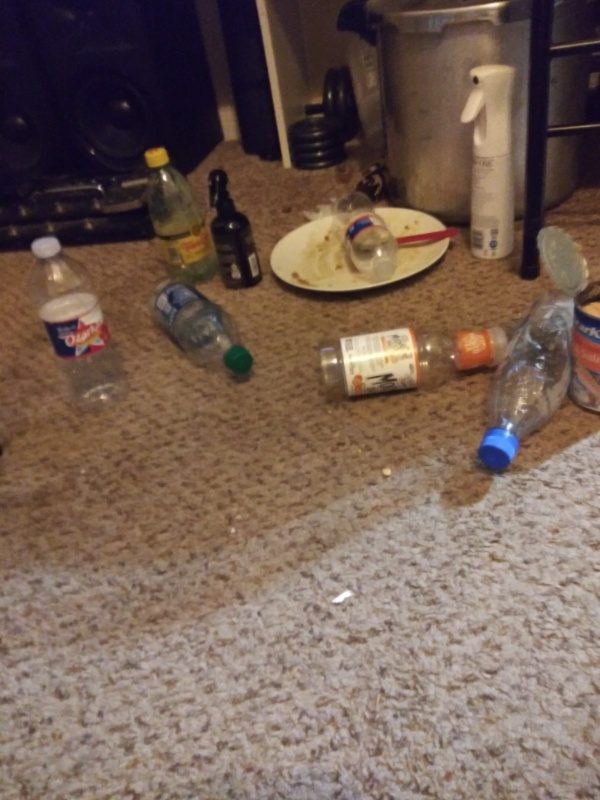bottle: (471, 287, 586, 474), (25, 231, 135, 409), (310, 316, 511, 403), (144, 273, 253, 387), (137, 143, 220, 287), (326, 187, 403, 285)
